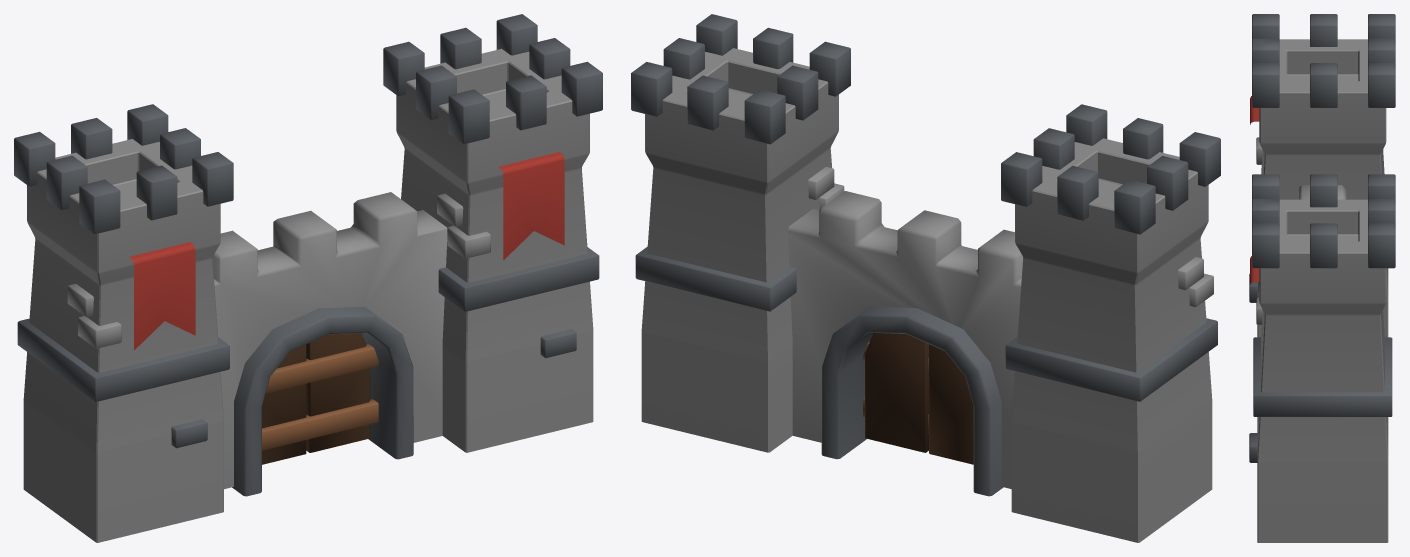
File: Gates.fbx
3 renders of one model, left to right at view 1: azimuth 30°, elevation 25°; view 2: azimuth 150°, elevation 25°; view 3: azimuth 270°, elevation 25°, orthographic. The views are drawn at different scales.
Visible parts, largest first — view 1: Cube.1476, Cube.1485, Cube.1494, Cube.1495, Cube.1496, Cube.1480, Cube.1477, Cube.1486, Cube.1484, Cube.1493, Cube.1489, Cube.1487 (+9 smaller); view 2: Cube.1476, Cube.1485, Cube.1494, Cube.1495, Cube.1496, Cube.1480, Cube.1486, Cube.1477, Cube.1489, Cube.1478, Cube.1487, Cube.1479 (+1 smaller); view 3: Cube.1485, Cube.1476, Cube.1489, Cube.1487, Cube.1478, Cube.1486, Cube.1477, Cube.1479, Cube.1488, Cube.1494, Cube.1492.
Boxes of the visible parts, x1,y1,x2,y2 form: Cube.1476: (23, 139, 223, 542); Cube.1485: (396, 48, 593, 452); Cube.1494: (212, 192, 447, 489); Cube.1495: (232, 306, 413, 496); Cube.1496: (262, 333, 370, 464); Cube.1480: (17, 318, 229, 401); Cube.1477: (14, 131, 120, 234); Cube.1486: (383, 41, 489, 144); Cube.1484: (129, 242, 195, 350); Cube.1493: (498, 152, 564, 260); Cube.1489: (438, 247, 599, 311); Cube.1487: (496, 14, 602, 116); Cube.1476: (1011, 138, 1212, 542); Cube.1485: (641, 48, 838, 452); Cube.1494: (787, 191, 1022, 488); Cube.1495: (821, 306, 1003, 496); Cube.1496: (865, 332, 973, 464); Cube.1480: (1005, 318, 1217, 401); Cube.1486: (744, 41, 850, 144); Cube.1477: (1114, 132, 1220, 234); Cube.1489: (635, 246, 796, 311); Cube.1478: (1001, 104, 1107, 206); Cube.1487: (631, 14, 737, 116); Cube.1479: (1057, 118, 1163, 220); Cube.1485: (1257, 199, 1388, 542); Cube.1476: (1257, 39, 1388, 337); Cube.1489: (1253, 337, 1392, 416); Cube.1487: (1252, 223, 1395, 268); Cube.1478: (1252, 63, 1395, 107); Cube.1486: (1252, 174, 1395, 207); Cube.1477: (1252, 14, 1395, 46); Cube.1479: (1252, 38, 1395, 63); Cube.1488: (1252, 199, 1395, 223); Cube.1494: (1299, 185, 1346, 199); Cube.1492: (1249, 433, 1257, 462).
Size of the model in its own units: 189 by 125 by 52.8.
